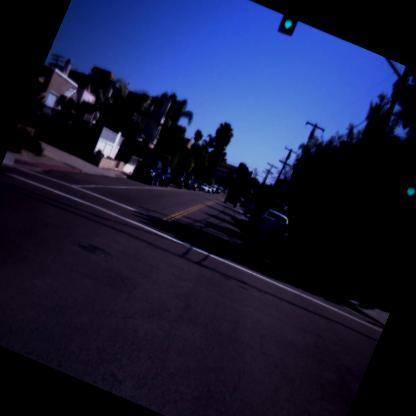trafficlight: (400, 154, 415, 205), (276, 14, 300, 38)
